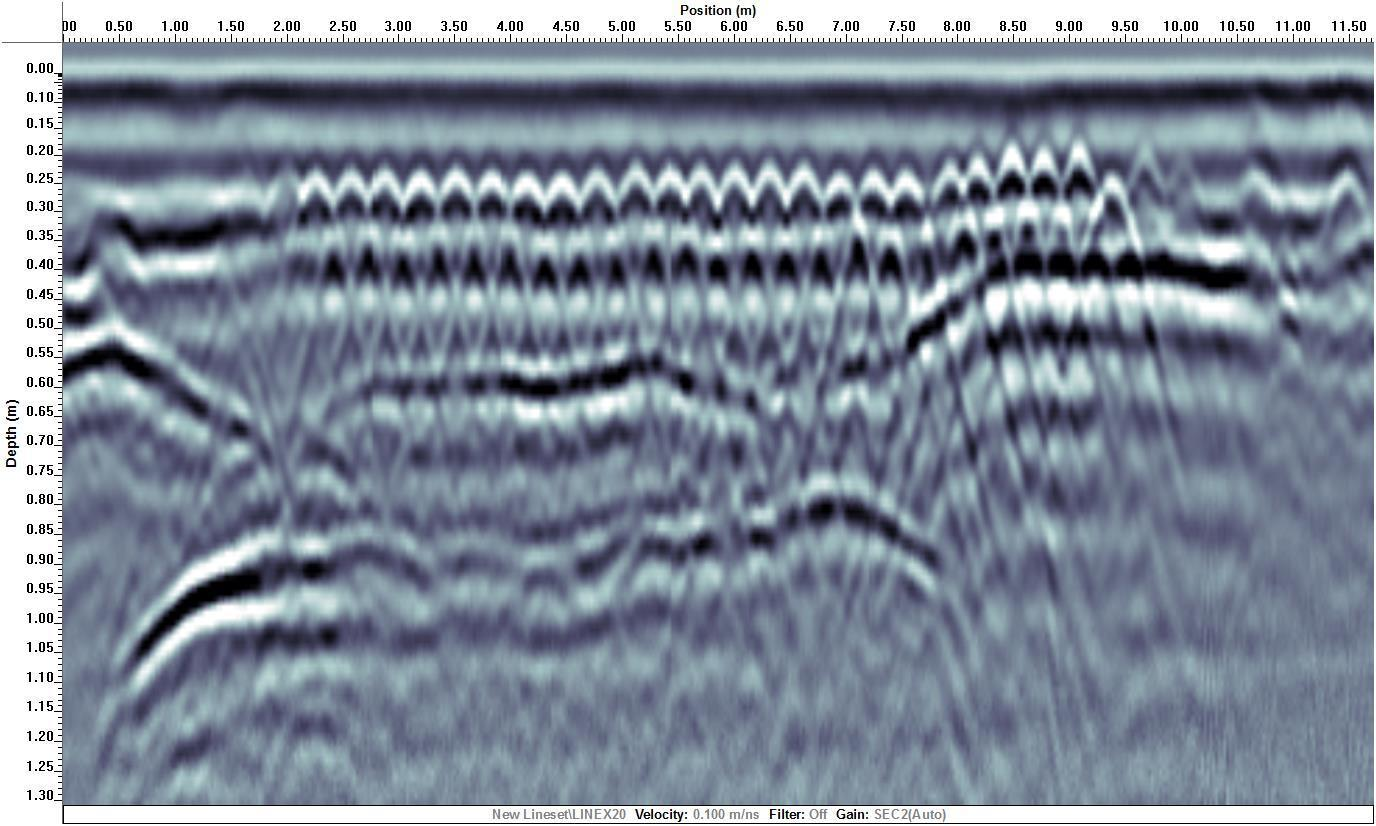hyperbola: (302, 163, 334, 290), (337, 162, 369, 289), (369, 160, 401, 287), (404, 159, 436, 286), (440, 158, 472, 285), (473, 160, 505, 287), (514, 164, 546, 291), (546, 164, 578, 291), (616, 161, 648, 288), (580, 160, 612, 287), (656, 159, 688, 286), (689, 161, 721, 288), (719, 158, 751, 285), (752, 158, 784, 285), (790, 157, 822, 284), (818, 159, 850, 286), (856, 158, 888, 285), (888, 156, 920, 283), (932, 156, 964, 283), (961, 154, 993, 281), (992, 134, 1024, 261), (1030, 128, 1062, 255), (1063, 128, 1095, 255), (1096, 157, 1128, 284), (1129, 138, 1161, 265)
